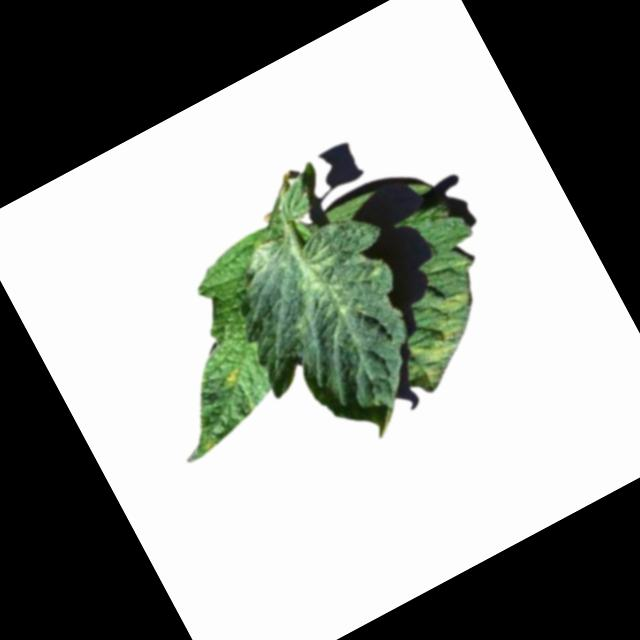Leaf_Mold: (402, 312, 487, 392), (233, 238, 288, 288), (435, 282, 478, 319), (214, 362, 248, 393), (197, 432, 223, 455)
